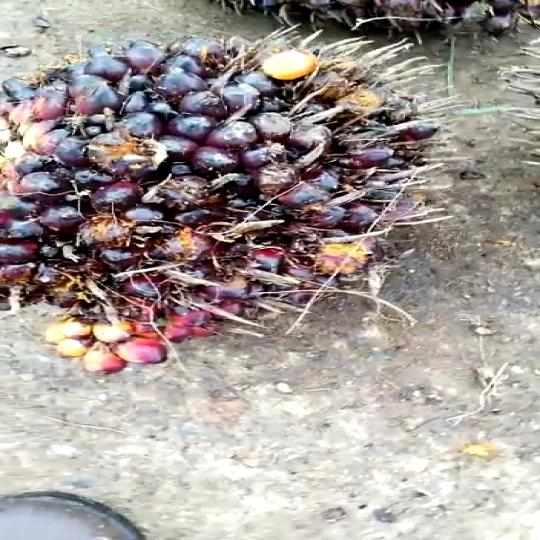masak: (0, 16, 457, 401)
